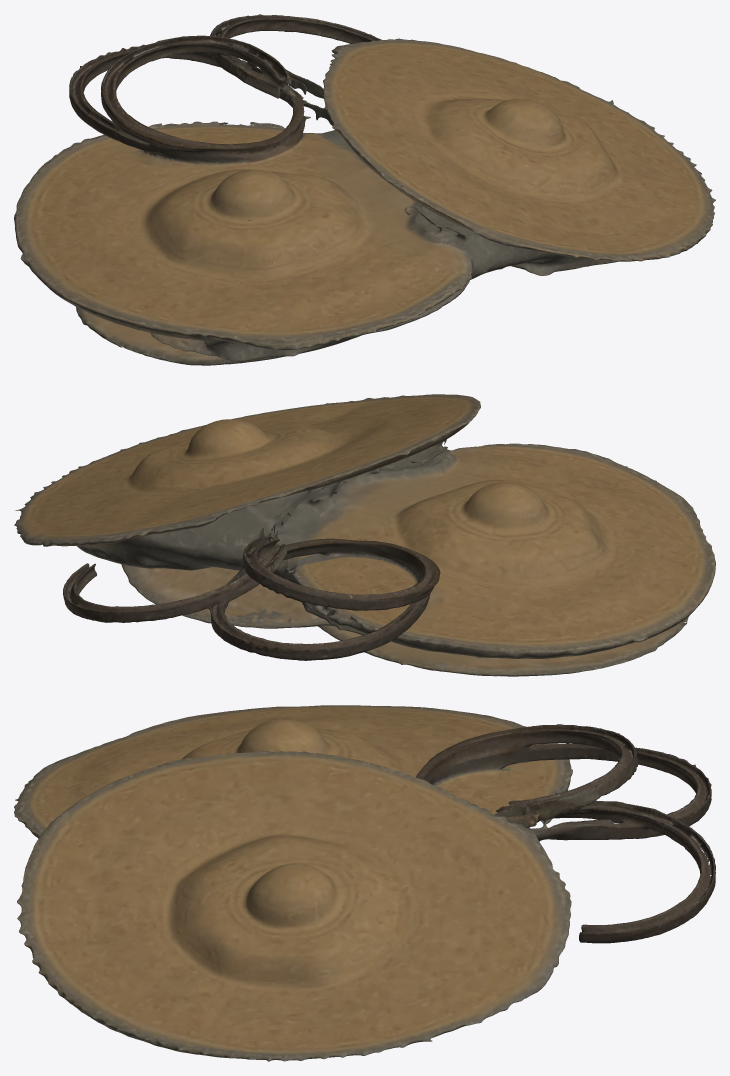
Rendered from kecrek.glb.
The picture shows the model from 3 angles, top to bottom: view 1: azimuth 30°, elevation 25°; view 2: azimuth 150°, elevation 25°; view 3: azimuth 270°, elevation 25°; orthographic projection. The views are drawn at different scales.
Visible parts, largest first — view 1: mesh_node; view 2: mesh_node; view 3: mesh_node.
Boxes of the visible parts, left/top/right/bottom form: mesh_node: left=14, top=14, right=715, bottom=365; mesh_node: left=14, top=394, right=715, bottom=676; mesh_node: left=14, top=705, right=715, bottom=1061.
Bounding box in the file's own units: 1.89 × 0.4134 × 1.65.
1 material, 1 textured.
